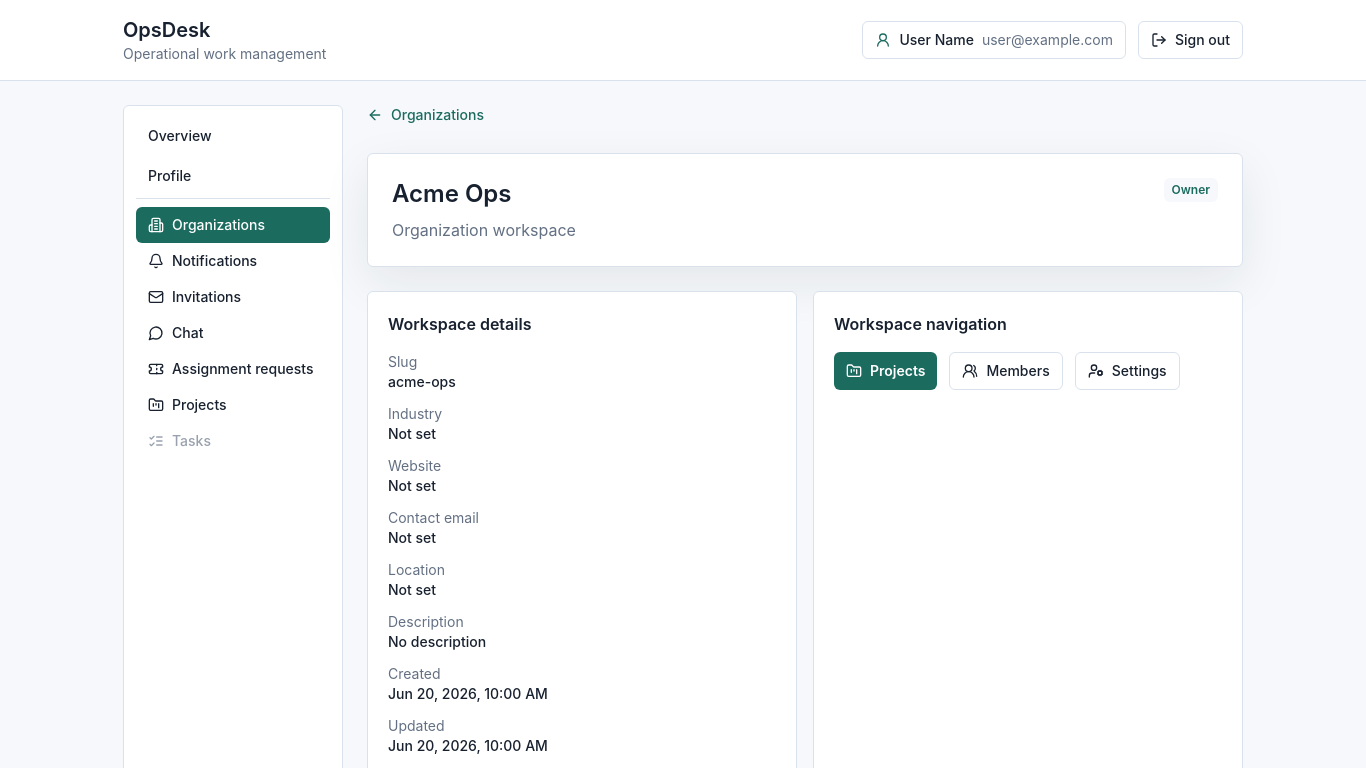
Test: SPEC-104 frontend app shell and auth UI › routes Projects to the active organization and marks only Projects active
What coordinates should you click on to do the following:
click the link "Projects" below "Assignment requests"
I would click on:
 (187, 404)
Its box is [148,396,227,413].
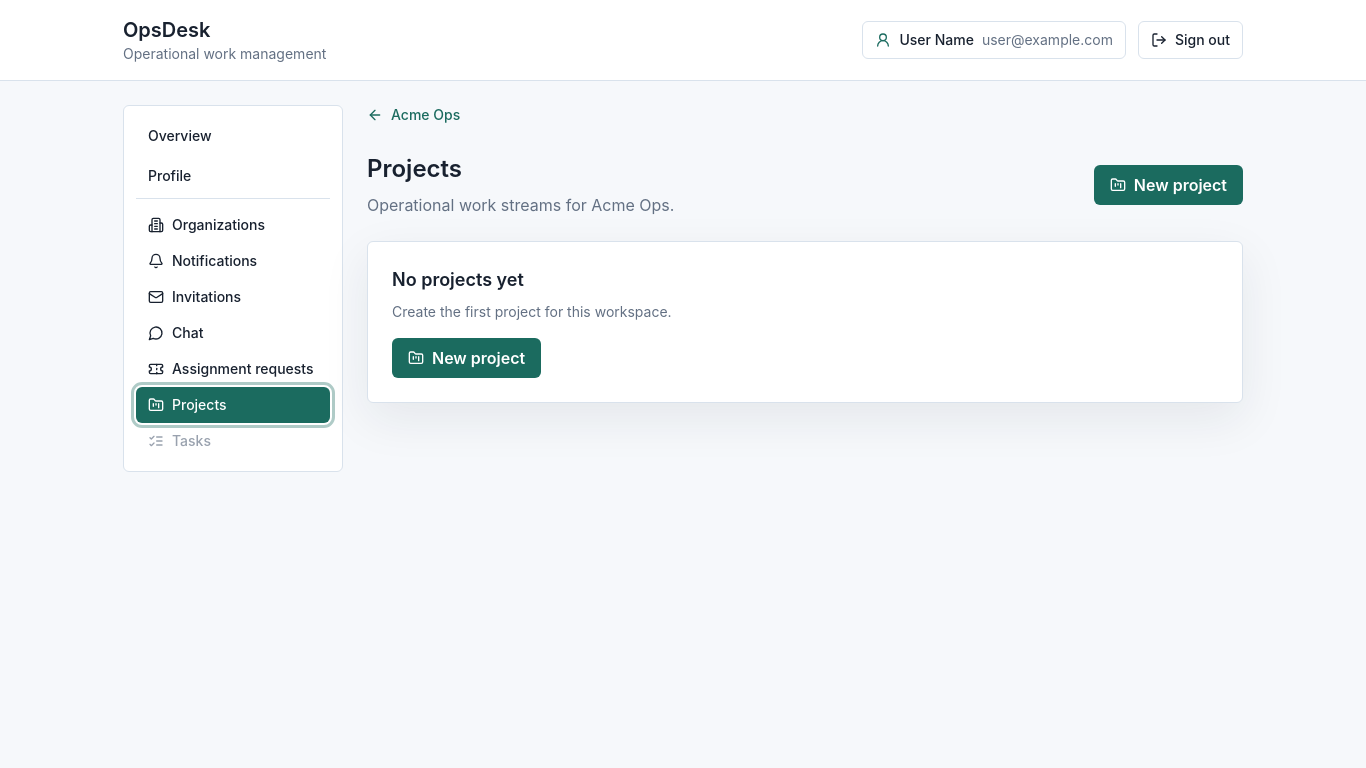
expect the heading "Projects" is shown: met, box [367,154,462,183]
